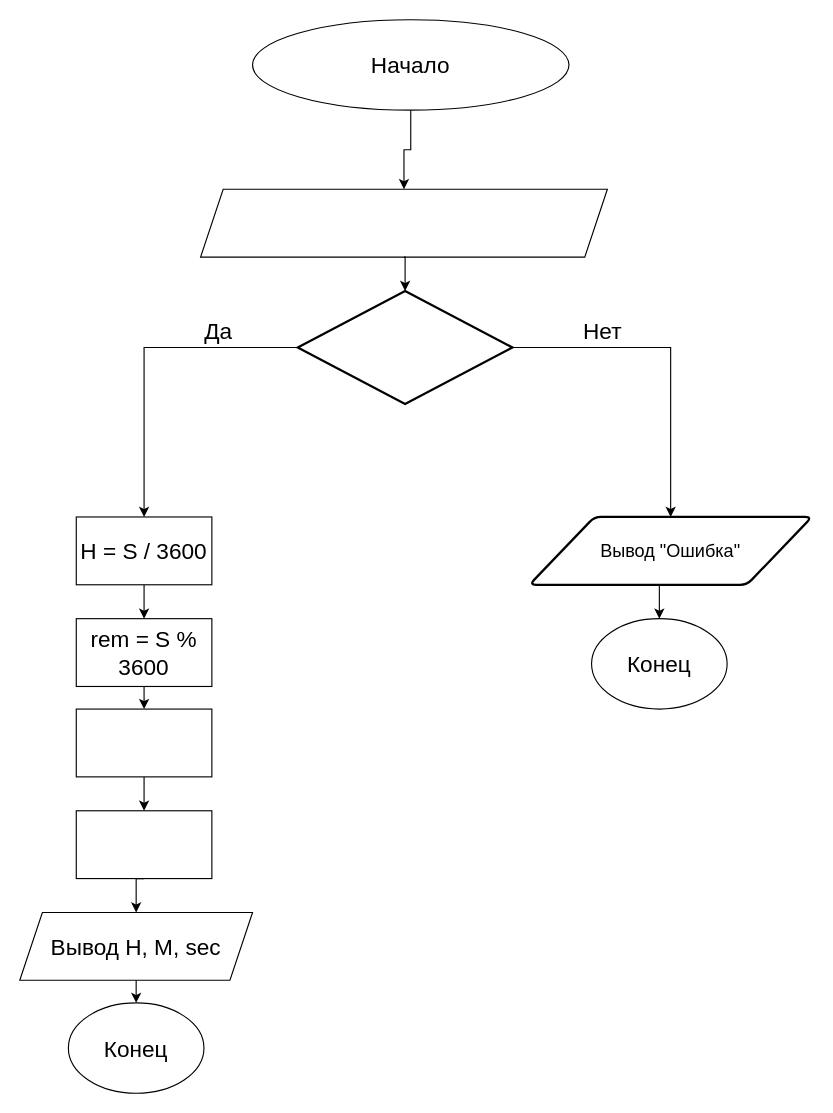
This 833x1113 diagram has some shape labels left out. The box of each missing label's shape, as (x1, y1, x2, y2) in pixels:
M = rem / 60: (75, 708, 212, 777)
S >= 0 и целое?: (296, 289, 513, 405)
sec = rem % 60: (75, 810, 212, 879)
Ввод S: (199, 188, 607, 257)
